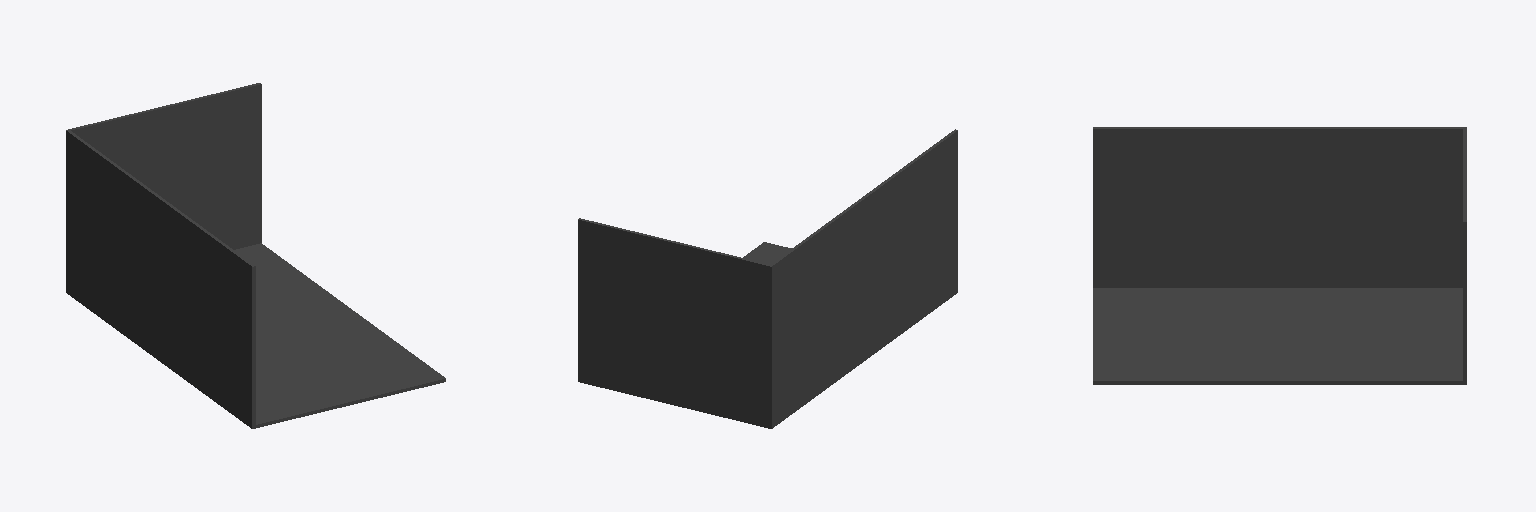
The model's file is walls.obj.
3 renders of one model, left to right at view 1: azimuth 30°, elevation 25°; view 2: azimuth 150°, elevation 25°; view 3: azimuth 270°, elevation 25°, orthographic.
Visible parts, largest first — view 1: sciany_Cube.001; view 2: sciany_Cube.001; view 3: sciany_Cube.001.
Boxes of the visible parts, x1,y1,x2,y2 form: sciany_Cube.001: [66, 83, 445, 428]; sciany_Cube.001: [578, 129, 957, 428]; sciany_Cube.001: [1093, 127, 1466, 384].
Bounding box in the file's own units: 9.6 × 7.68 × 16.